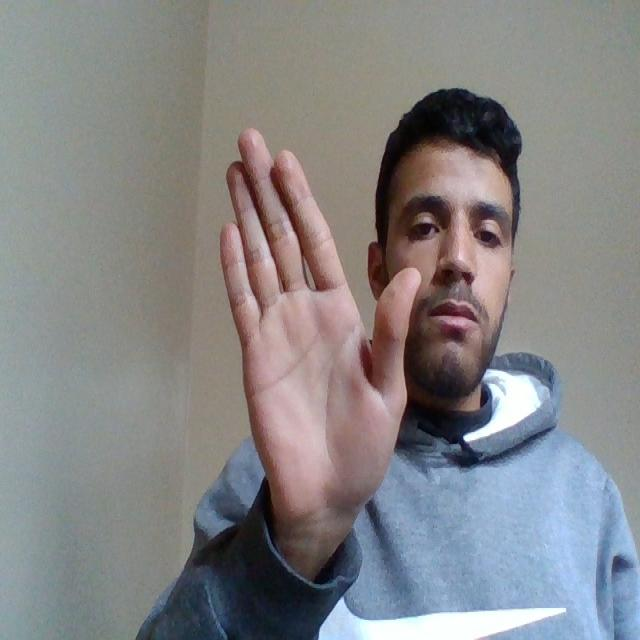Hello: (216, 122, 424, 546)
